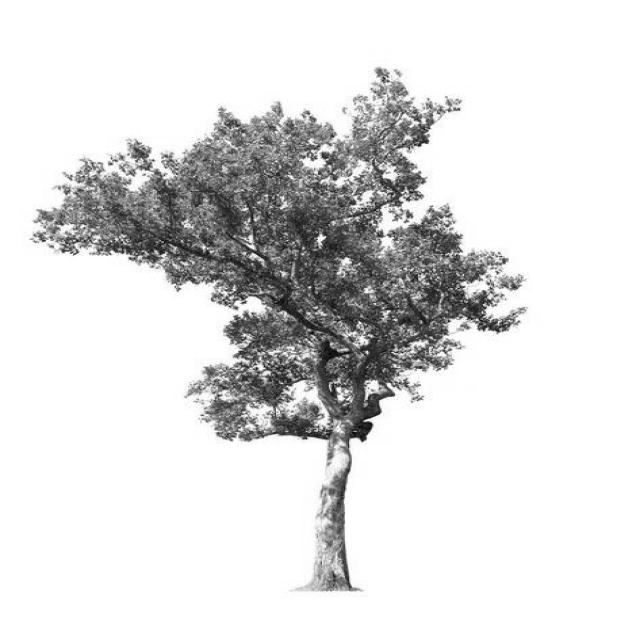Tree: (34, 68, 524, 592)
